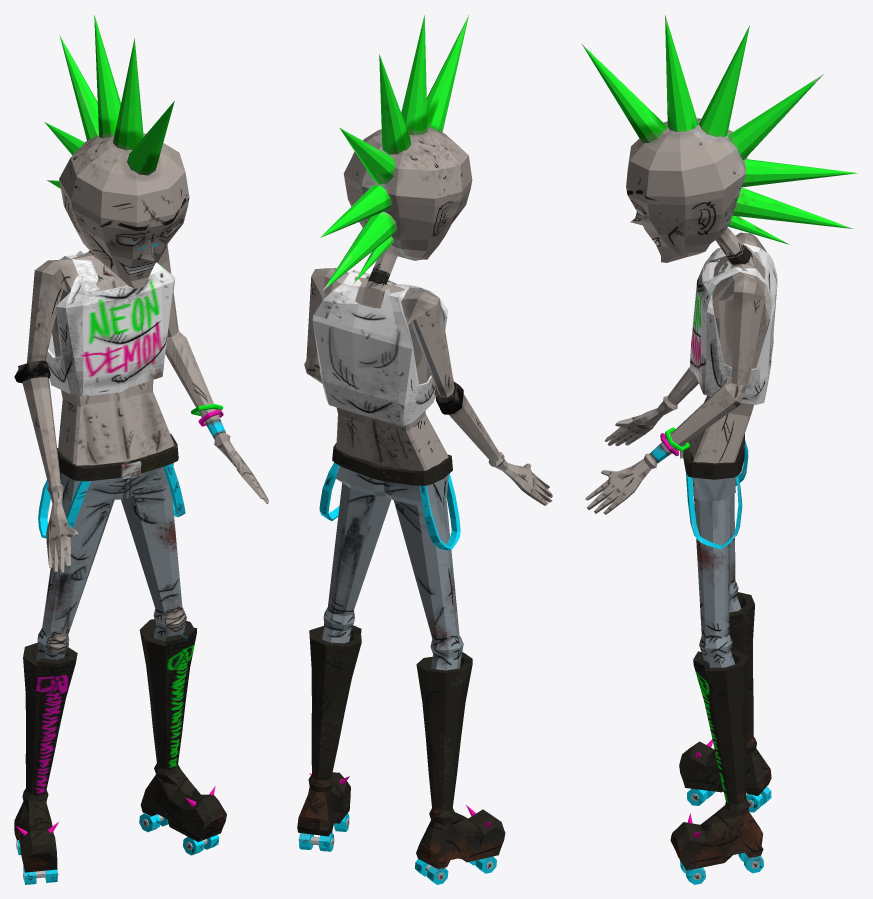
The model's file is punkAnimation_000002.obj.
3 renders of one model, left to right at view 1: azimuth 30°, elevation 25°; view 2: azimuth 150°, elevation 25°; view 3: azimuth 270°, elevation 25°, orthographic. The views are drawn at different scales.
Parts seen in each view (by area): view 1: Cube.004_Cube.003; view 2: Cube.004_Cube.003; view 3: Cube.004_Cube.003.
Part boxes in pixels (left/top/right/bottom): Cube.004_Cube.003: left=14, top=15, right=268, bottom=884; Cube.004_Cube.003: left=297, top=15, right=552, bottom=884; Cube.004_Cube.003: left=581, top=15, right=858, bottom=884.
Size of the model in its own units: 1.94 by 7.58 by 2.31.
